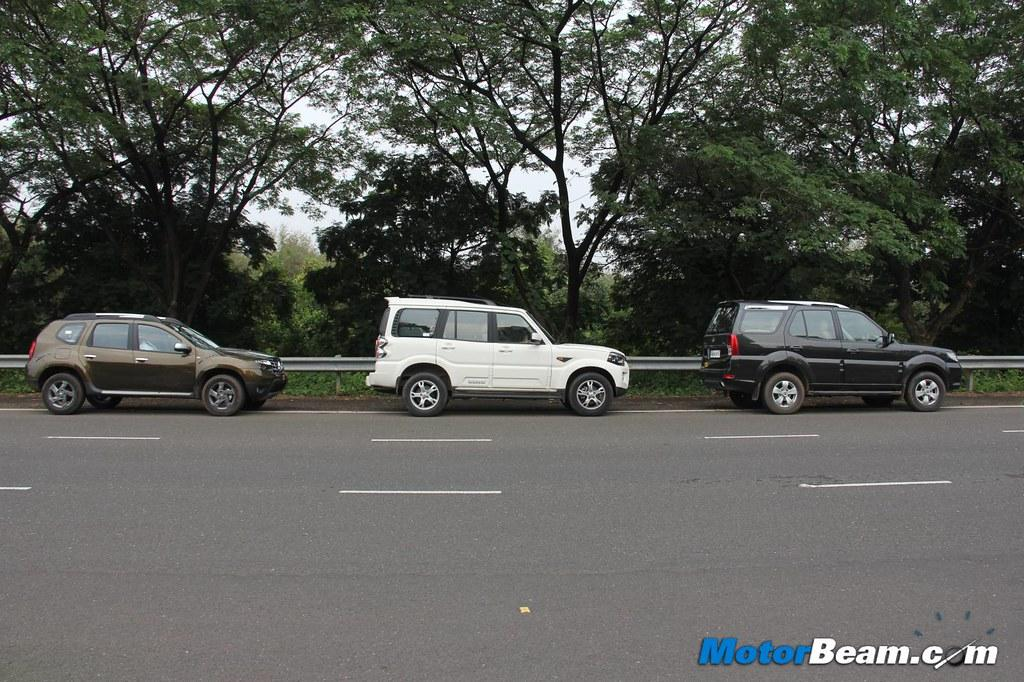car: (346, 245, 643, 457), (691, 260, 995, 441), (16, 278, 295, 452)
